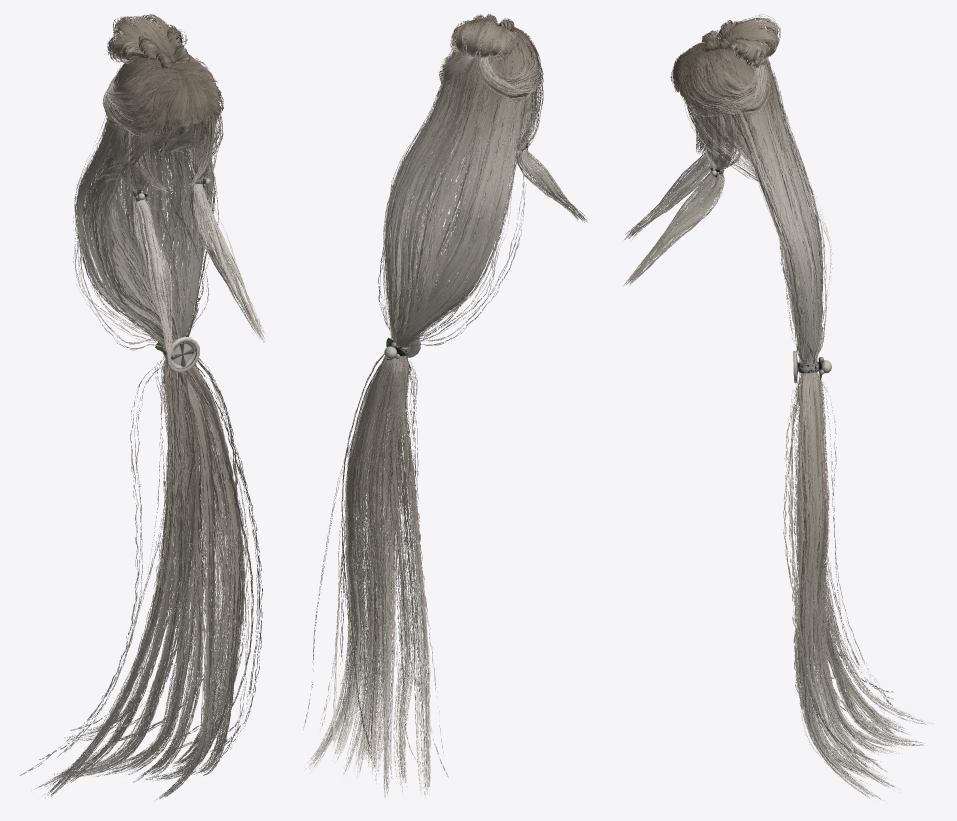
Rendered from dint_hair_18.glb.
The picture shows the model from 3 angles, left to right: view 1: azimuth 30°, elevation 25°; view 2: azimuth 150°, elevation 25°; view 3: azimuth 270°, elevation 25°; orthographic projection. The views are drawn at different scales.
Parts seen in each view (by area): view 1: 18_L2_1_18_L2_1, 18_L2_4_18_L2_4, 18_L2_3_18_L2_3, 18_L2_2_18_L2_2, 18_Mid1_L_18_Mid1_L, 18_Mid1_R_18_Mid1_R, 18_L3_18_L3, 18_Top2_Light_L_18_Top2_Light_L, 18_Top1a_18_Top1a, 18_F2_18_F2, 18_F1a_18_F1a, 18_Mid2_L3_18_Mid2_L3 (+9 smaller); view 2: 18_L2_1_18_L2_1, 18_L2_2_18_L2_2, 18_L2_3_18_L2_3, 18_L2_4_18_L2_4, 18_L3_18_L3, 18_Mid1_L_18_Mid1_L, 18_Top1a_18_Top1a, 18_Top3_L_18_Top3_L, 18_Top2_Light_L_18_Top2_Light_L, 18_Top1b_18_Top1b, 18_Hl_Back_18_Hl_Back, 18_Mid2_L3_18_Mid2_L3 (+3 smaller); view 3: 18_L2_3_18_L2_3, 18_L2_4_18_L2_4, 18_L2_2_18_L2_2, 18_L2_1_18_L2_1, 18_Mid1_R_18_Mid1_R, 18_L3_18_L3, 18_Top2_Light_R_18_Top2_Light_R, 18_Top_0b_18_Top_0b, 18_Mid2_R3_18_Mid2_R3, 18_Mid1_L_18_Mid1_L, 18_Top1a_18_Top1a, 18_Top3_R_18_Top3_R (+3 smaller).
Part boxes in pixels (x1,y1,x2,y2): 18_L2_1_18_L2_1: [35, 57, 199, 797]; 18_L2_4_18_L2_4: [106, 55, 262, 798]; 18_L2_3_18_L2_3: [81, 57, 249, 799]; 18_L2_2_18_L2_2: [20, 58, 208, 798]; 18_Mid1_L_18_Mid1_L: [111, 61, 177, 364]; 18_Mid1_R_18_Mid1_R: [173, 60, 265, 342]; 18_L3_18_L3: [57, 66, 259, 757]; 18_Top2_Light_L_18_Top2_Light_L: [103, 63, 180, 136]; 18_Top1a_18_Top1a: [107, 14, 176, 59]; 18_F2_18_F2: [155, 80, 215, 127]; 18_F1a_18_F1a: [147, 67, 214, 127]; 18_Mid2_L3_18_Mid2_L3: [96, 99, 184, 181]; 18_L2_1_18_L2_1: [368, 30, 529, 797]; 18_L2_2_18_L2_2: [367, 30, 528, 797]; 18_L2_3_18_L2_3: [310, 31, 485, 788]; 18_L2_4_18_L2_4: [304, 30, 485, 796]; 18_L3_18_L3: [303, 37, 531, 761]; 18_Mid1_L_18_Mid1_L: [516, 35, 587, 222]; 18_Top1a_18_Top1a: [452, 19, 513, 58]; 18_Top3_L_18_Top3_L: [476, 31, 538, 103]; 18_Top2_Light_L_18_Top2_Light_L: [484, 28, 543, 91]; 18_Top1b_18_Top1b: [456, 20, 511, 57]; 18_Hl_Back_18_Hl_Back: [438, 50, 521, 162]; 18_Mid2_L3_18_Mid2_L3: [495, 69, 543, 179]; 18_L2_3_18_L2_3: [714, 49, 912, 798]; 18_L2_4_18_L2_4: [716, 47, 922, 799]; 18_L2_2_18_L2_2: [715, 37, 934, 752]; 18_L2_1_18_L2_1: [718, 38, 933, 752]; 18_Mid1_R_18_Mid1_R: [623, 51, 743, 286]; 18_L3_18_L3: [747, 67, 895, 773]; 18_Top2_Light_R_18_Top2_Light_R: [678, 50, 763, 116]; 18_Top_0b_18_Top_0b: [683, 39, 773, 149]; 18_Mid2_R3_18_Mid2_R3: [679, 70, 773, 187]; 18_Mid1_L_18_Mid1_L: [624, 48, 722, 239]; 18_Top1a_18_Top1a: [717, 14, 780, 60]; 18_Top3_R_18_Top3_R: [702, 53, 770, 116].
Bounding box in the file's own units: 0.453 × 1.74 × 0.6939.
42 materials, 42 textured.
